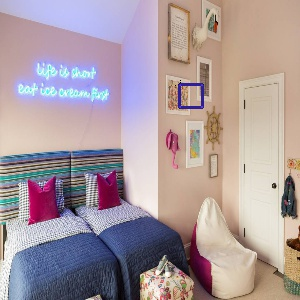square: (174, 81, 206, 111)
